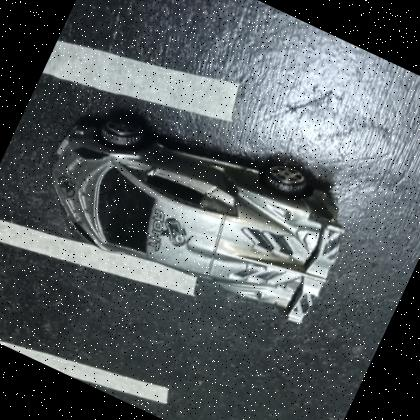Car: (23, 74, 365, 343)
